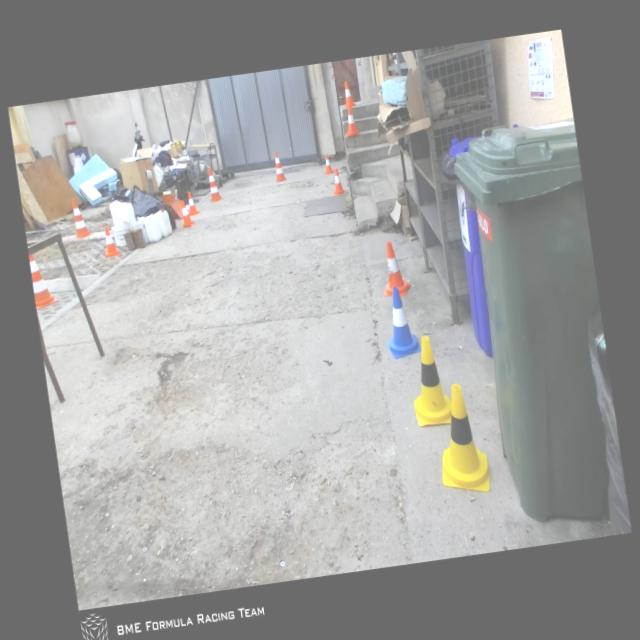blue_cone: (378, 282, 423, 361)
large_orange_cone: (28, 245, 60, 309), (69, 196, 91, 238), (205, 166, 223, 203), (271, 149, 287, 182)
orange_cone: (377, 239, 412, 300), (100, 225, 122, 258), (342, 105, 360, 137), (330, 168, 346, 195), (341, 80, 356, 108), (180, 199, 194, 228), (185, 190, 200, 216), (322, 153, 334, 175)
yellow_cone: (430, 382, 492, 496), (405, 335, 455, 428)
